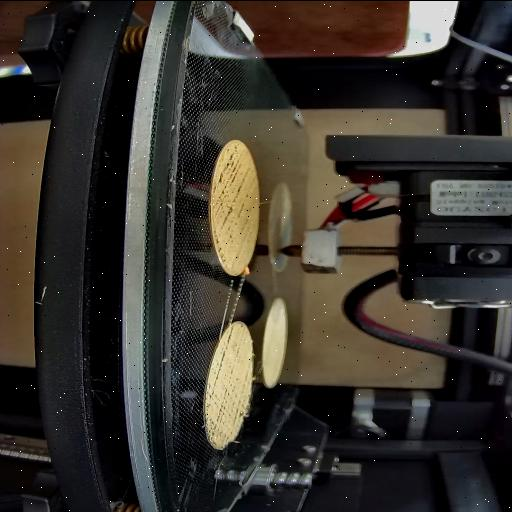under_extrusion: (218, 142, 250, 264), (212, 348, 252, 442), (224, 322, 246, 346)
